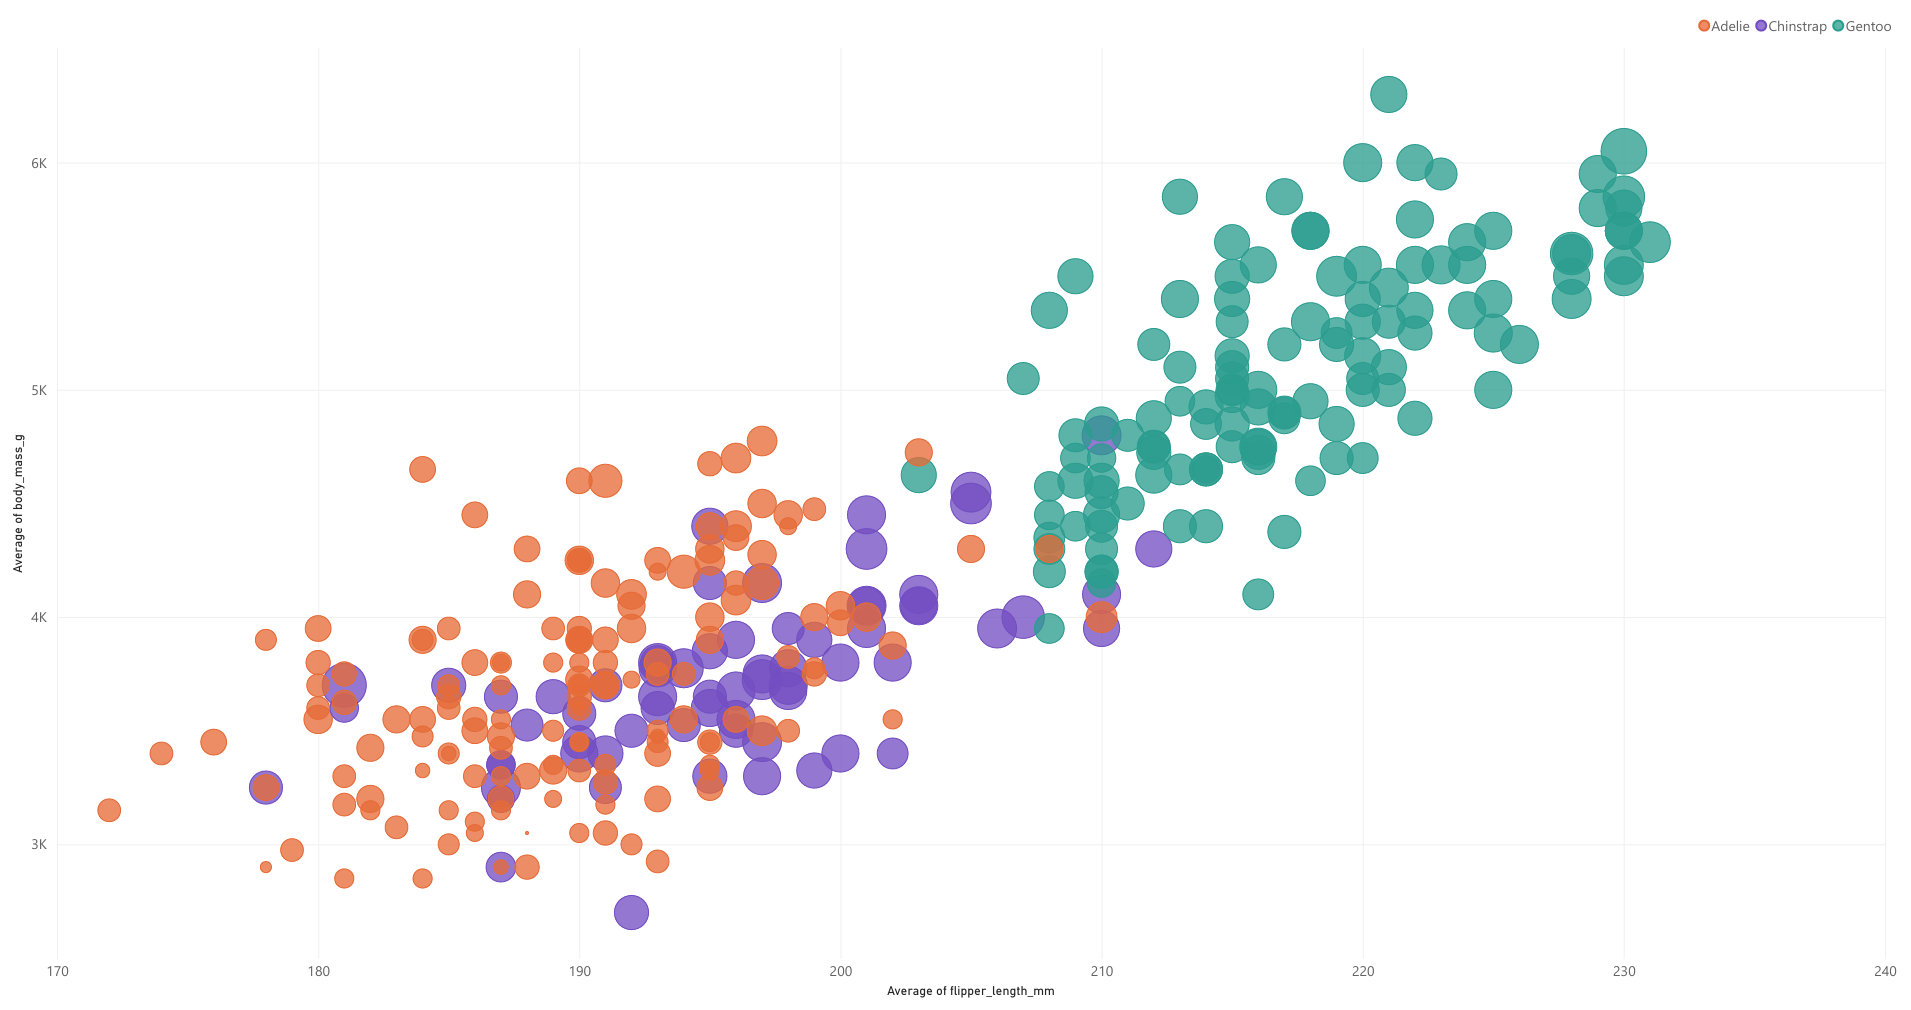

The dashboard page shown, as its layout file describes it:
{"tool":"powerbi","page":{"name":"Page 1","canvas":[1920,1080],"ordinal":0},"visuals":[{"type":"scatterChart","fields":{"Category":["penglings (2).Column1"],"Series":["penglings (2).species"],"Size":["Avg(penglings (2).bill_length_mm)"],"X":["penglings (2).flipper_length_mm"],"Y":["Avg(penglings (2).body_mass_g)"]},"box":[5.2,0,1909.7,1080.6],"z":2}]}

Visuals, with their boxes on the page's 1920x1080 design canvas (x1, y1, x2, y2). These are canvas units, not pixel positions in the 1911x1010 screenshot, which may show the page scaled, cropped or inside an application window:
scatterChart - penglings (2).Column1 x penglings (2).species: detection(5, 0, 1915, 1081)
